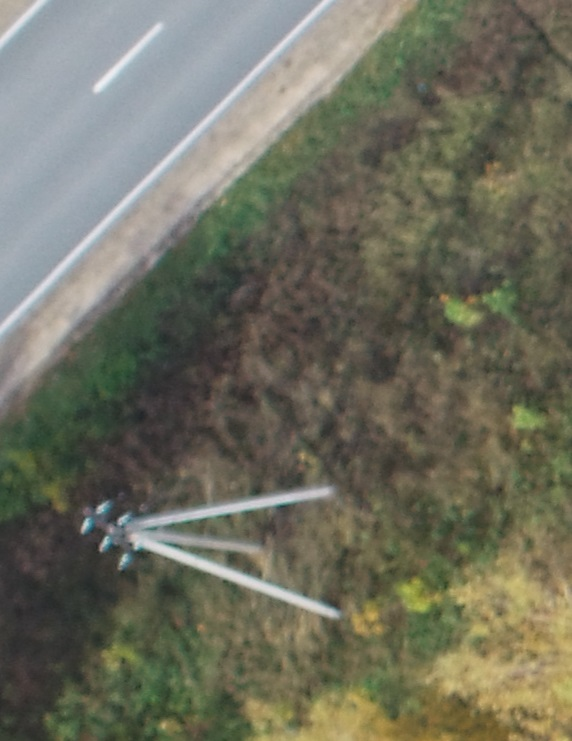opora: (66, 476, 349, 621)
